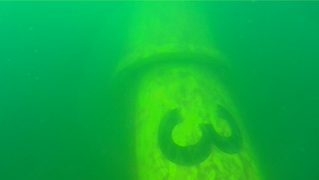3: (157, 102, 243, 167)
pipe: (110, 1, 265, 179)
